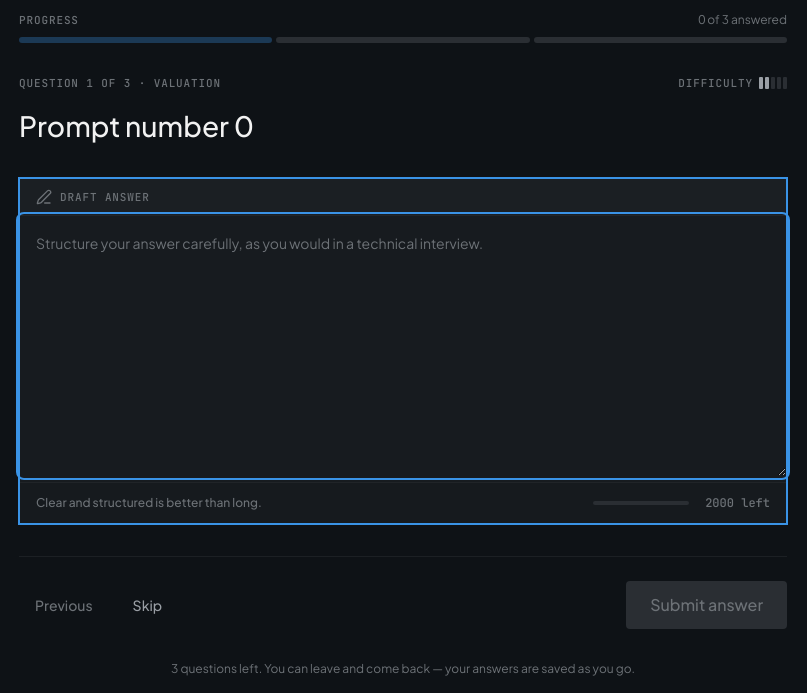
Test: DiagnosticRunner › disables submitting until the answer has some substance
This screenshot has width=807, height=693.
expect the button "Submit answer" is disabled: met, box [626, 580, 787, 628]
Replace the text in the text box labelled "your answer" with "no" at (403,346), box [20, 216, 786, 476]
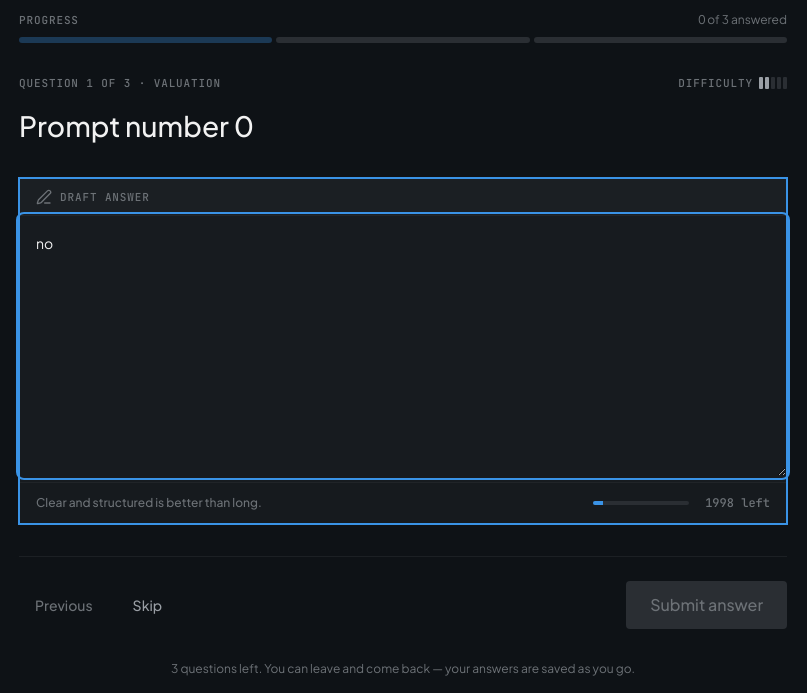
expect the button "Submit answer" is disabled: met, box [626, 580, 787, 628]
Replace the text in the text box named "your answer" with "Subtract net debt from enterprise value and add back cash equivalents." at (403,346), box [20, 216, 786, 476]
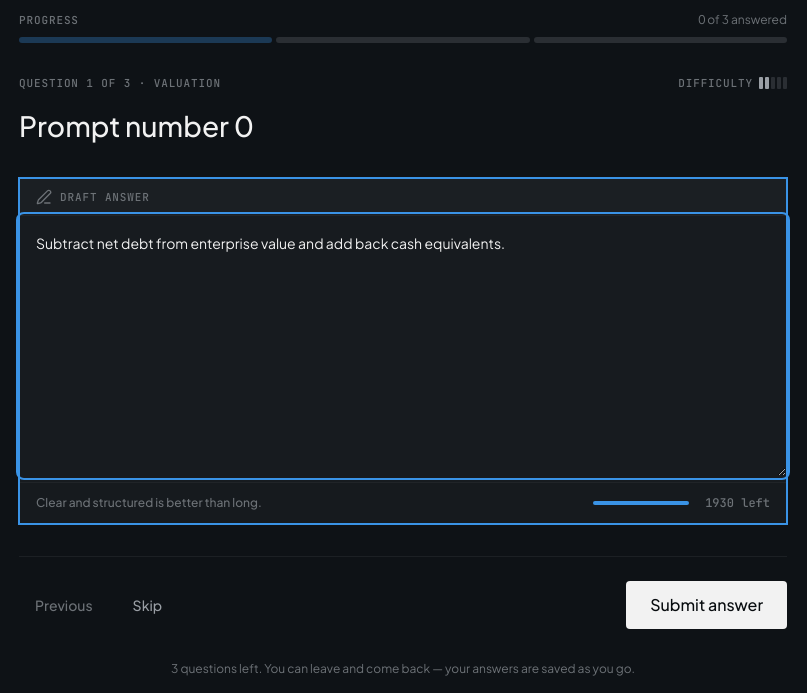
expect the button "Submit answer" is enabled: met, box [626, 580, 787, 628]
